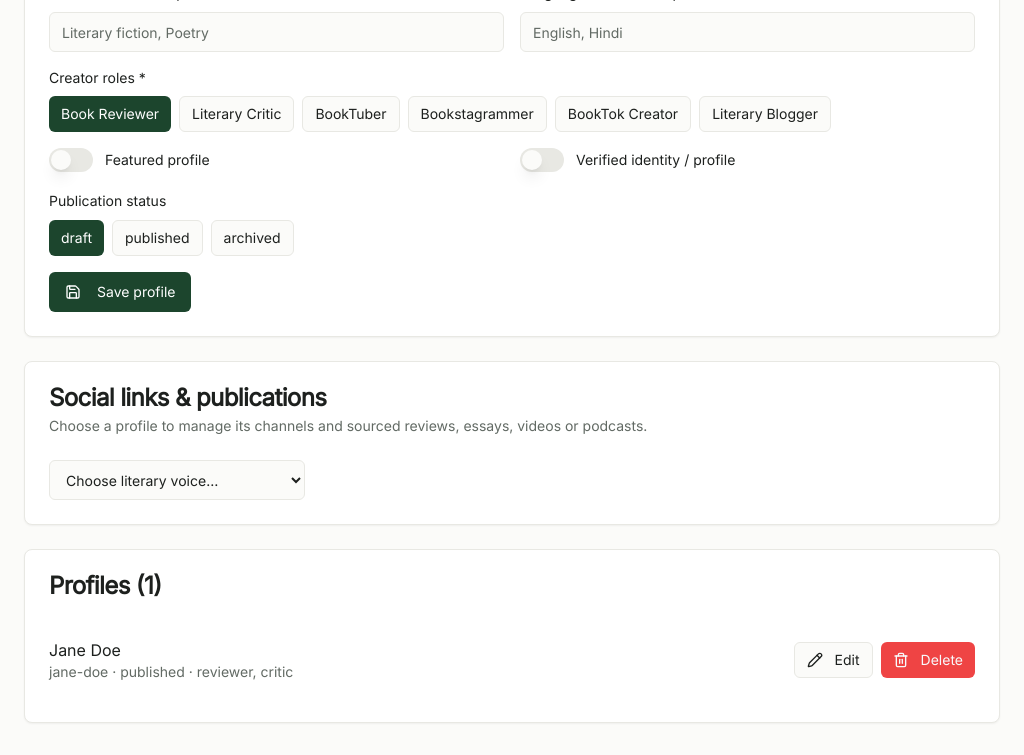
Scenario: AdminLiteraryCreators › selects creator from dropdown to view and manage social links and publications
Later steps or results of the test are not shown.
(page scrolled)
Select "Jane Doe" in the dropdown at (177, 480), box [49,460,305,500]
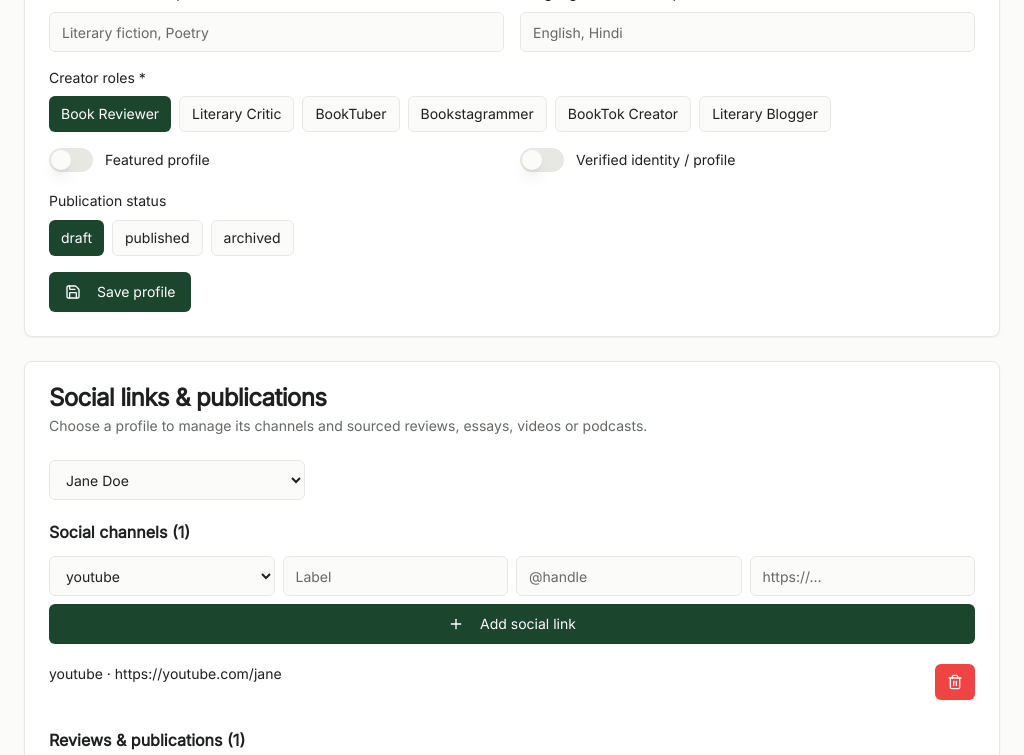
Expected: the heading "Social channels (1)" is shown, [49,522,190,542]
Expected: the heading "Reviews & publications (1)" is shown, [49,730,245,750]
